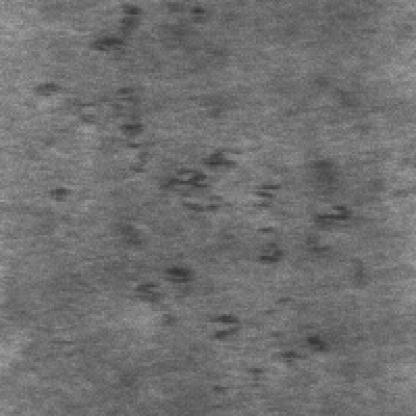rolled-in_scale: (93, 8, 345, 260), (143, 268, 335, 380)
